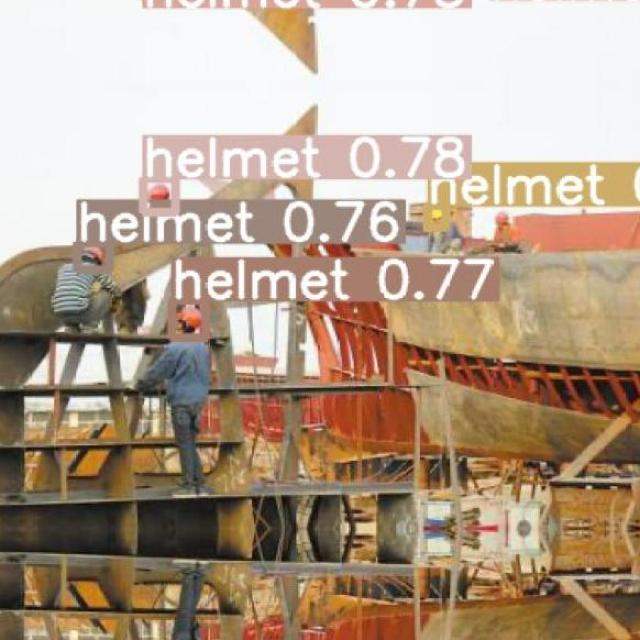red helmet: (145, 180, 177, 205), (177, 309, 203, 329), (82, 244, 105, 265), (496, 212, 513, 226)
yellow helmet: (430, 208, 447, 224)
